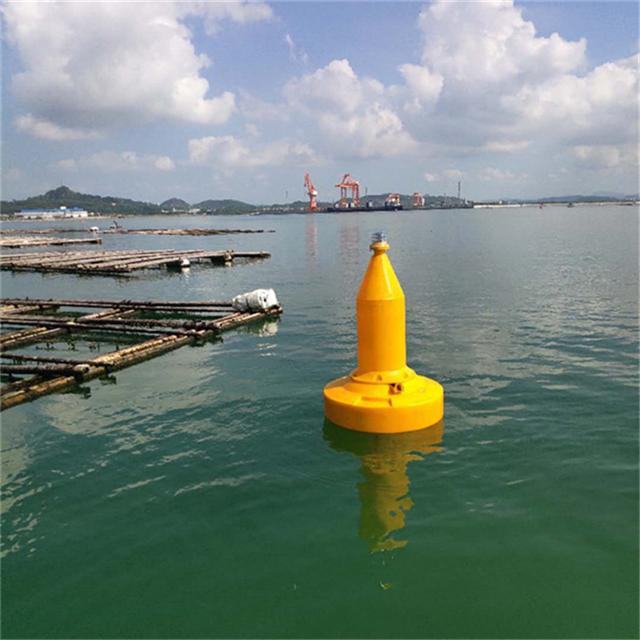buoy: (319, 226, 451, 437)
